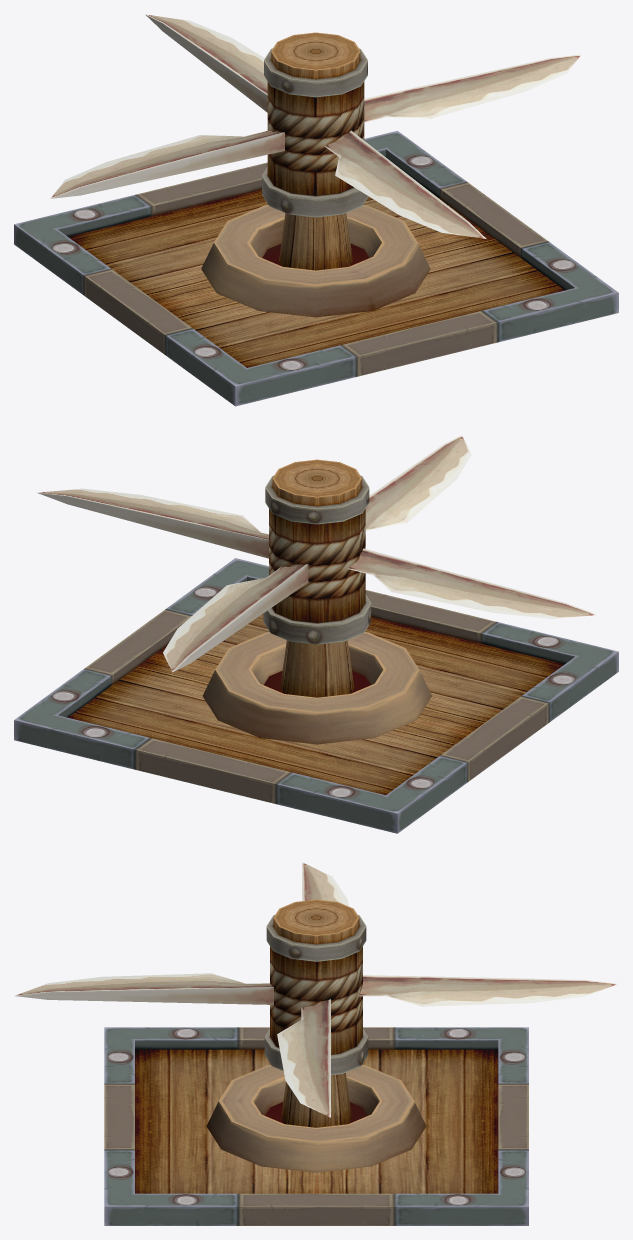
The model's file is trap_cutter.DAE.
The picture shows the model from 3 angles, top to bottom: view 1: azimuth 30°, elevation 25°; view 2: azimuth 150°, elevation 25°; view 3: azimuth 270°, elevation 25°; orthographic projection. The views are drawn at different scales.
Parts seen in each view (by area): view 1: Trap_Cutter, Cutter; view 2: Trap_Cutter, Cutter; view 3: Trap_Cutter, Cutter.
Boxes of the visible parts, x1,y1,x2,y2 form: Trap_Cutter: (14, 131, 618, 406); Cutter: (50, 14, 580, 270); Trap_Cutter: (14, 558, 618, 833); Cutter: (37, 435, 597, 697); Trap_Cutter: (104, 1027, 528, 1225); Cutter: (15, 862, 618, 1127).
Bounding box in the file's own units: 142 × 56.68 × 142.
1 material, 1 textured.
